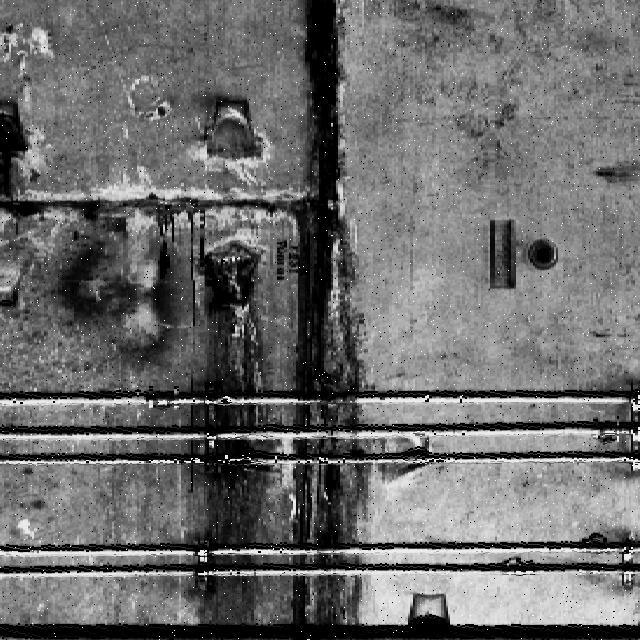leakage: (289, 0, 375, 630), (180, 258, 274, 629), (49, 181, 277, 234), (1, 78, 45, 209)
